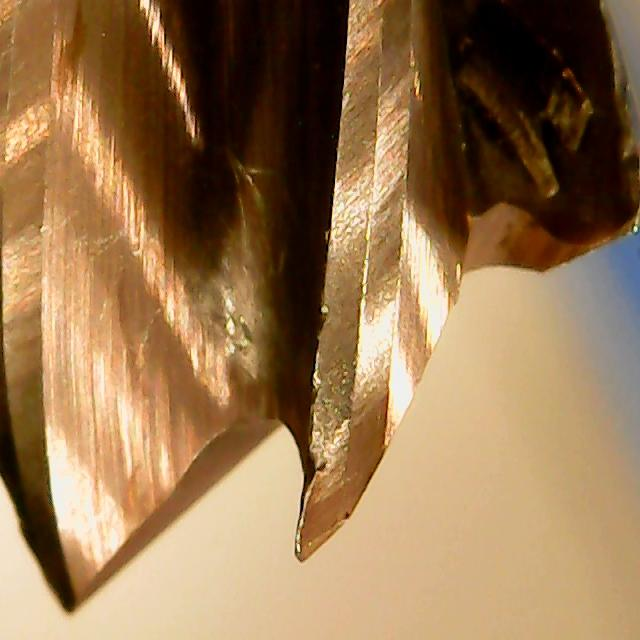Tool-wear-class-1: (276, 274, 414, 570)
